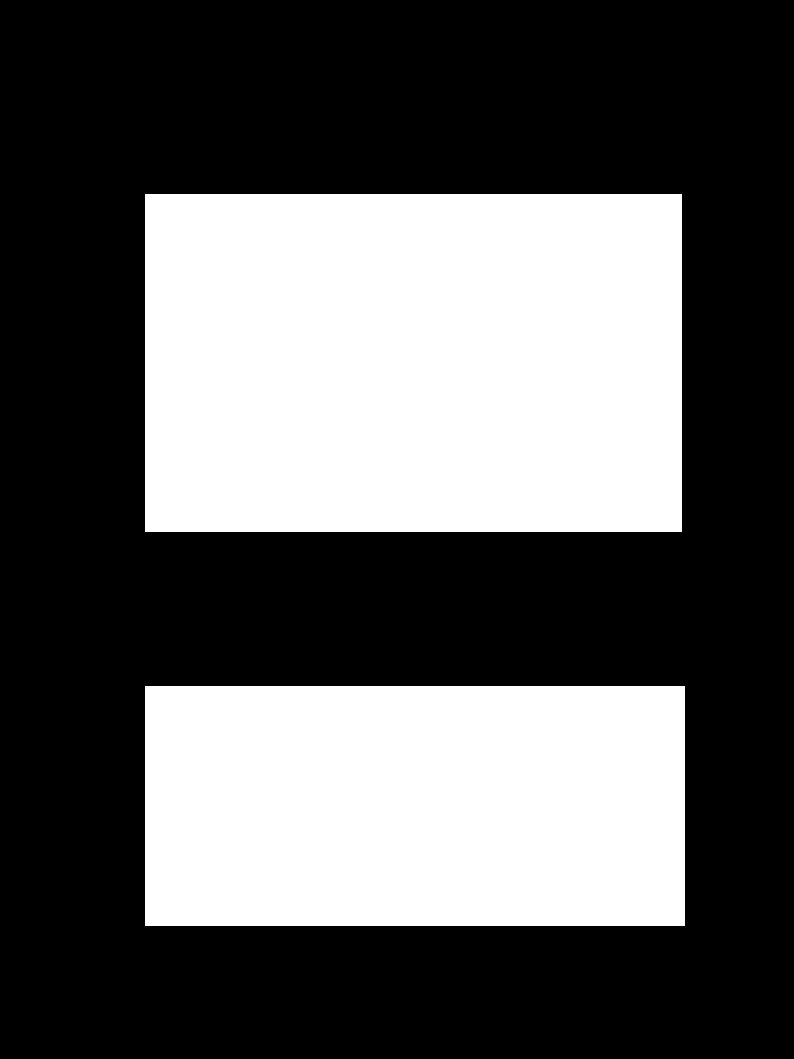table: (145, 194, 681, 531), (145, 686, 684, 925)
